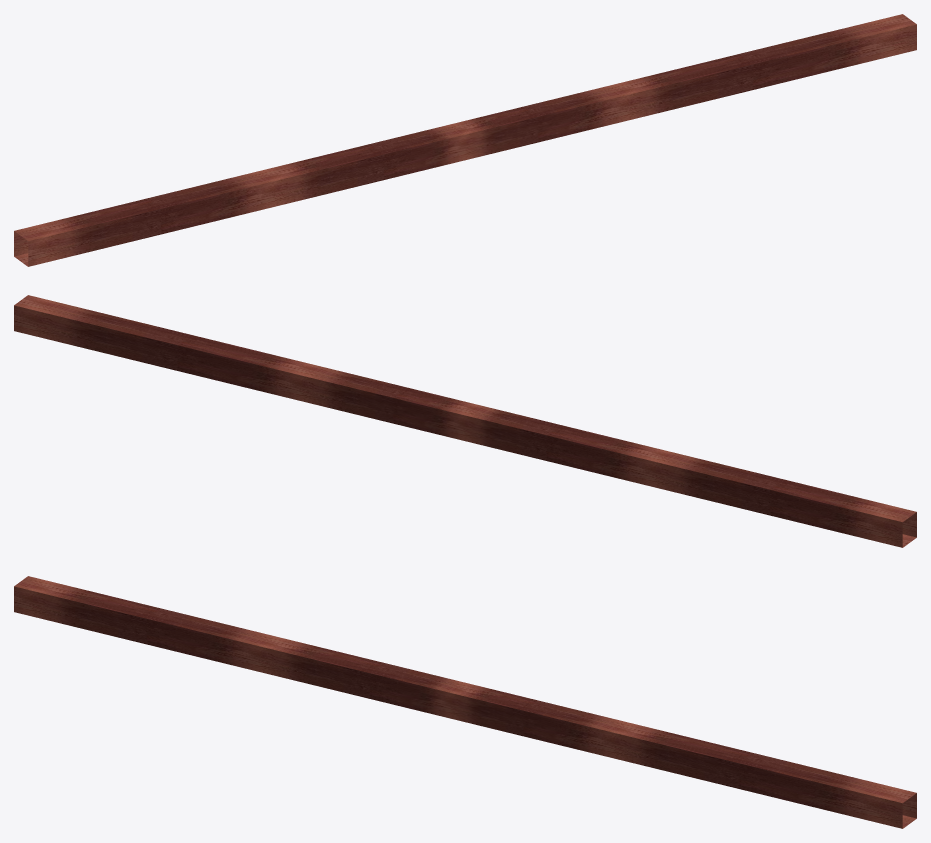
3 views of the same model, one above another, from view 1: azimuth 30°, elevation 25°; view 2: azimuth 150°, elevation 25°; view 3: azimuth 330°, elevation 25° (orthographic).
Parts seen in each view (by area): view 1: Object67; view 2: Object67; view 3: Object67.
Part boxes in pixels (box(x1,y1,x2,y2)): Object67: box(14, 14, 916, 266); Object67: box(14, 295, 916, 547); Object67: box(14, 576, 916, 828).
Size of the model in its own units: 521 by 14.39 by 14.39.
